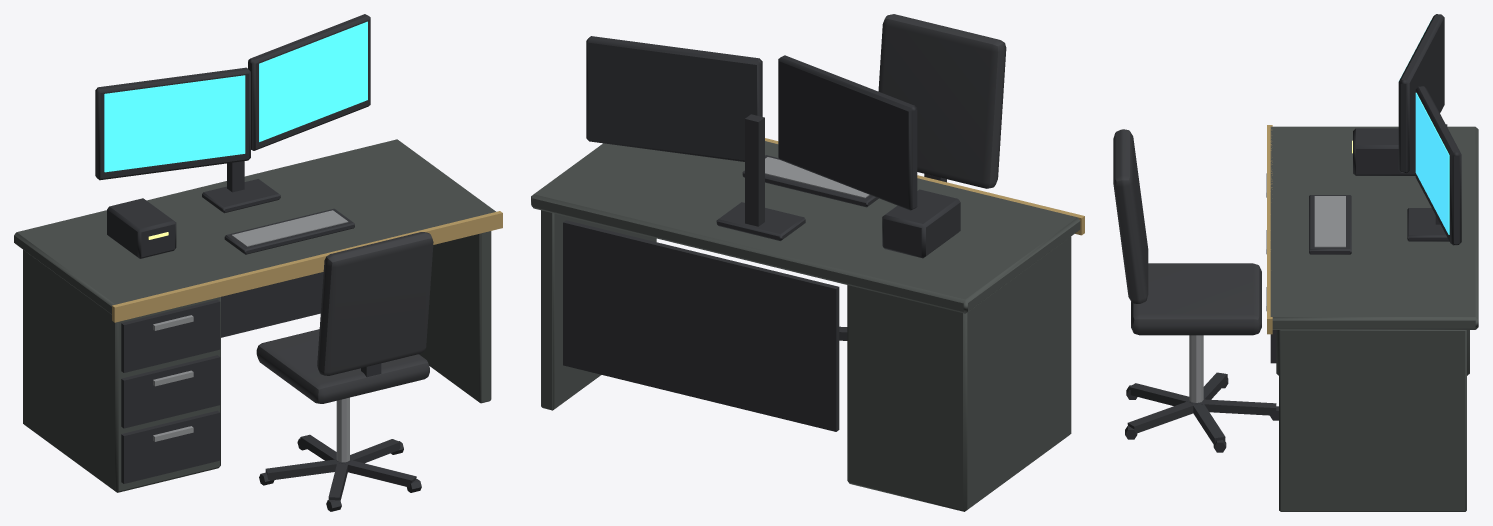
The model's file is int_desk.glb.
The picture shows the model from 3 angles, left to right: view 1: azimuth 30°, elevation 25°; view 2: azimuth 150°, elevation 25°; view 3: azimuth 270°, elevation 25°; orthographic projection. The views are drawn at different scales.
Parts seen in each view (by area): view 1: kit_int_desk_paint, kit_int_desk_dark_metal, kit_int_desk_screen_glow, kit_int_desk_cloth, kit_int_desk_trim_metal, kit_int_desk_metal; view 2: kit_int_desk_paint, kit_int_desk_dark_metal, kit_int_desk_cloth, kit_int_desk_metal, kit_int_desk_trim_metal; view 3: kit_int_desk_paint, kit_int_desk_dark_metal, kit_int_desk_cloth, kit_int_desk_screen_glow, kit_int_desk_metal, kit_int_desk_trim_metal.
Boxes of the visible parts, x1,y1,x2,y2 form: kit_int_desk_paint: (14,139,495,492); kit_int_desk_dark_metal: (95,14,421,511); kit_int_desk_screen_glow: (104,21,367,172); kit_int_desk_cloth: (256,232,433,403); kit_int_desk_trim_metal: (112,211,502,322); kit_int_desk_metal: (153,210,349,462); kit_int_desk_paint: (531,141,1080,511); kit_int_desk_dark_metal: (563,36,960,431); kit_int_desk_cloth: (878,14,1006,188); kit_int_desk_metal: (765,157,869,198); kit_int_desk_trim_metal: (765,138,1084,235); kit_int_desk_paint: (1270,126,1478,511); kit_int_desk_dark_metal: (1125,14,1461,452); kit_int_desk_cloth: (1113,129,1261,335); kit_int_desk_screen_glow: (1399,20,1449,234); kit_int_desk_metal: (1189,173,1345,402); kit_int_desk_trim_metal: (1267,125,1272,334).
Bounding box in the file's own units: 1.61 × 1.32 × 1.28.
